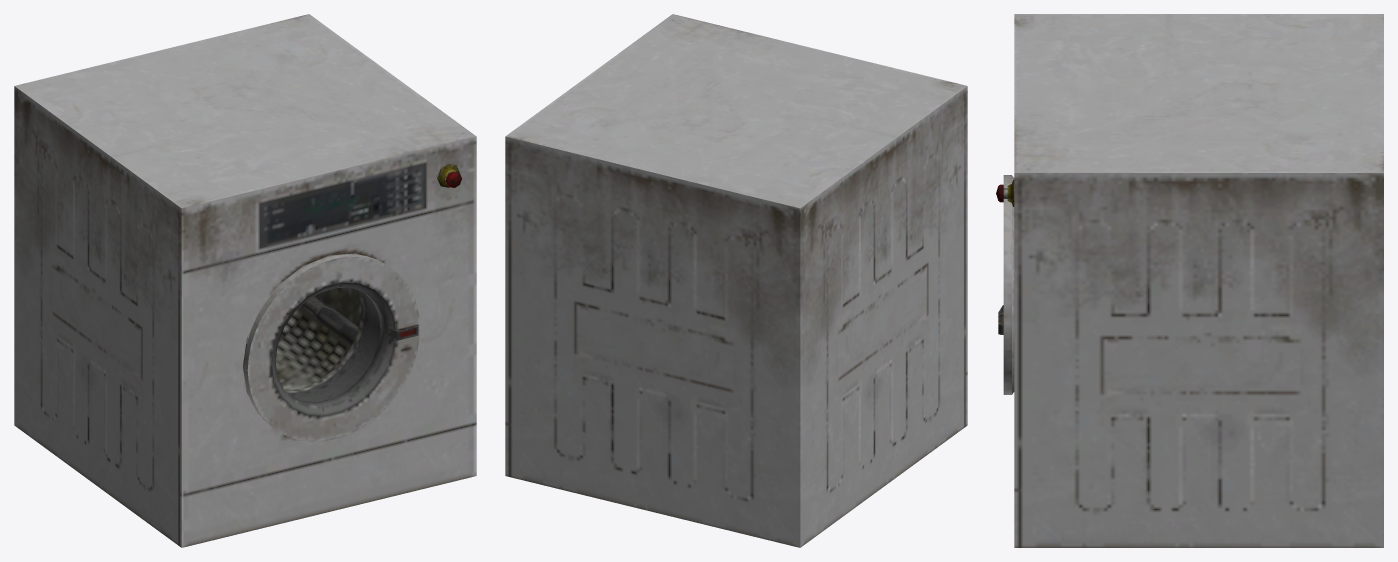
The model's file is 026_WashingMachine.fbx.
3 renders of one model, left to right at view 1: azimuth 30°, elevation 25°; view 2: azimuth 150°, elevation 25°; view 3: azimuth 270°, elevation 25°, orthographic. The views are drawn at different scales.
Visible parts, largest first — view 1: LOD_1_Group_0_Sub_1__sm31_026_WashingMachine01A_A_Mat, LOD_1_Group_3_Sub_1__sm31_026_WashingMachine01A_A_Mat, LOD_1_Group_5_Sub_1__sm31_026_WashingMachine01A_A_Mat, LOD_1_Group_4_Sub_1__sm31_026_WashingMachine01A_A_Mat; view 2: LOD_1_Group_0_Sub_1__sm31_026_WashingMachine01A_A_Mat; view 3: LOD_1_Group_0_Sub_1__sm31_026_WashingMachine01A_A_Mat, LOD_1_Group_3_Sub_1__sm31_026_WashingMachine01A_A_Mat.
Boxes of the visible parts, x1=… form: LOD_1_Group_0_Sub_1__sm31_026_WashingMachine01A_A_Mat: x1=14, y1=14, x2=476, y2=547; LOD_1_Group_3_Sub_1__sm31_026_WashingMachine01A_A_Mat: x1=244, y1=254, x2=419, y2=441; LOD_1_Group_5_Sub_1__sm31_026_WashingMachine01A_A_Mat: x1=275, y1=288, x2=361, y2=390; LOD_1_Group_4_Sub_1__sm31_026_WashingMachine01A_A_Mat: x1=301, y1=296, x2=358, y2=345; LOD_1_Group_0_Sub_1__sm31_026_WashingMachine01A_A_Mat: x1=505, y1=14, x2=967, y2=547; LOD_1_Group_0_Sub_1__sm31_026_WashingMachine01A_A_Mat: x1=1014, y1=14, x2=1383, y2=547; LOD_1_Group_3_Sub_1__sm31_026_WashingMachine01A_A_Mat: x1=998, y1=175, x2=1014, y2=394.
Bounding box in the file's own units: 1.15 × 1.26 × 1.18.
